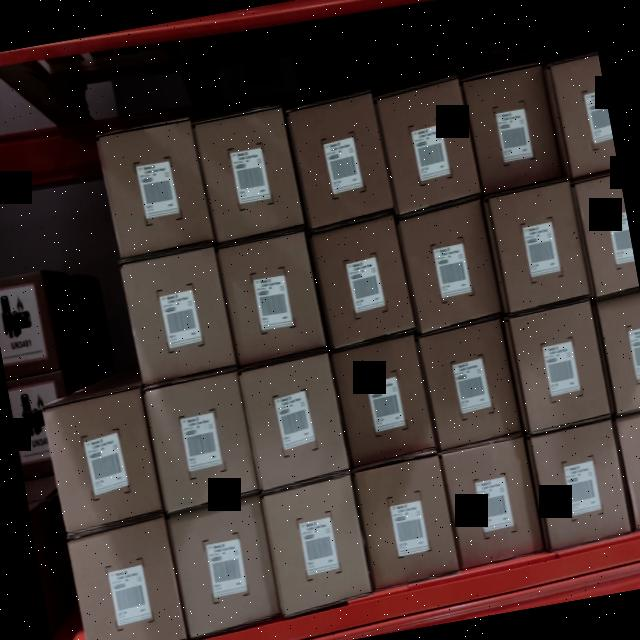box: (44, 396, 161, 529), (97, 123, 209, 254), (146, 374, 254, 508), (218, 232, 325, 366), (124, 252, 234, 382), (169, 504, 277, 634), (197, 111, 303, 243), (240, 361, 348, 488), (288, 97, 392, 228), (266, 482, 370, 612), (354, 458, 459, 586), (69, 526, 186, 640), (312, 218, 416, 344), (462, 69, 566, 194), (530, 424, 632, 550), (420, 325, 520, 450), (511, 305, 610, 430), (332, 342, 433, 462), (443, 440, 542, 562), (492, 185, 588, 308), (402, 208, 499, 329), (381, 89, 476, 209)
